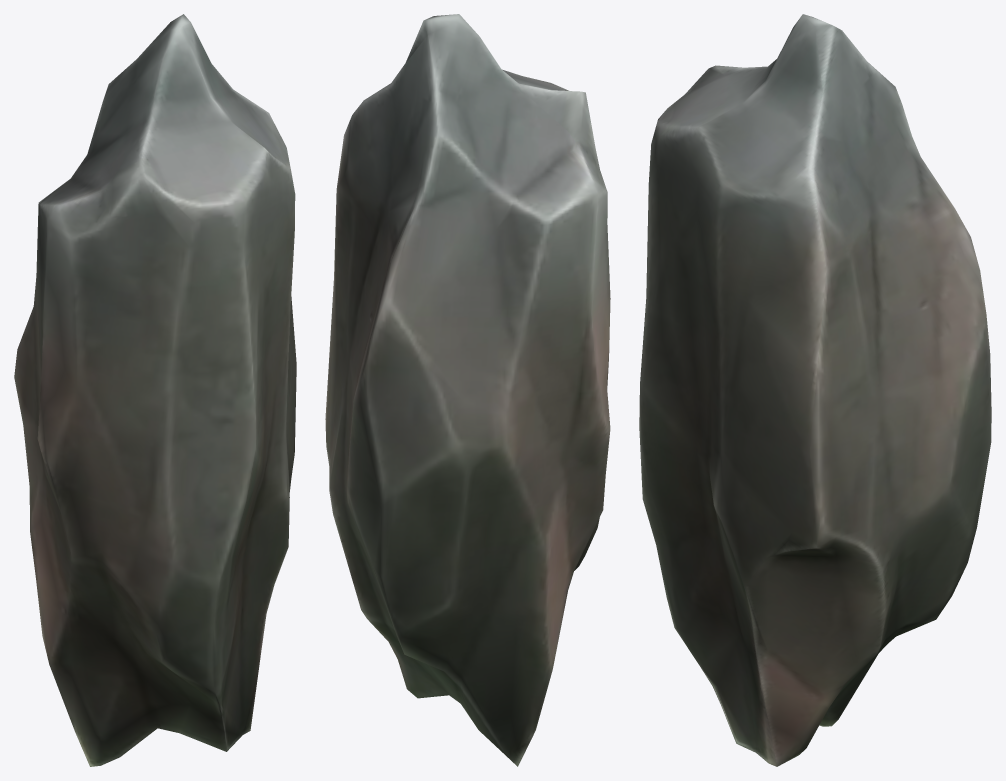
File: stone2.glb
3 renders of one model, left to right at view 1: azimuth 30°, elevation 25°; view 2: azimuth 150°, elevation 25°; view 3: azimuth 270°, elevation 25°, orthographic. The views are drawn at different scales.
Visible parts, largest first — view 1: stone2; view 2: stone2; view 3: stone2.
Part boxes in pixels (x1,y1,x2,y2): stone2: [14, 14, 296, 766]; stone2: [325, 14, 610, 766]; stone2: [639, 14, 991, 766].
Size of the model in its own units: 0.845 by 2.2 by 0.9379.
Materials: 1 (1 with a texture image).
